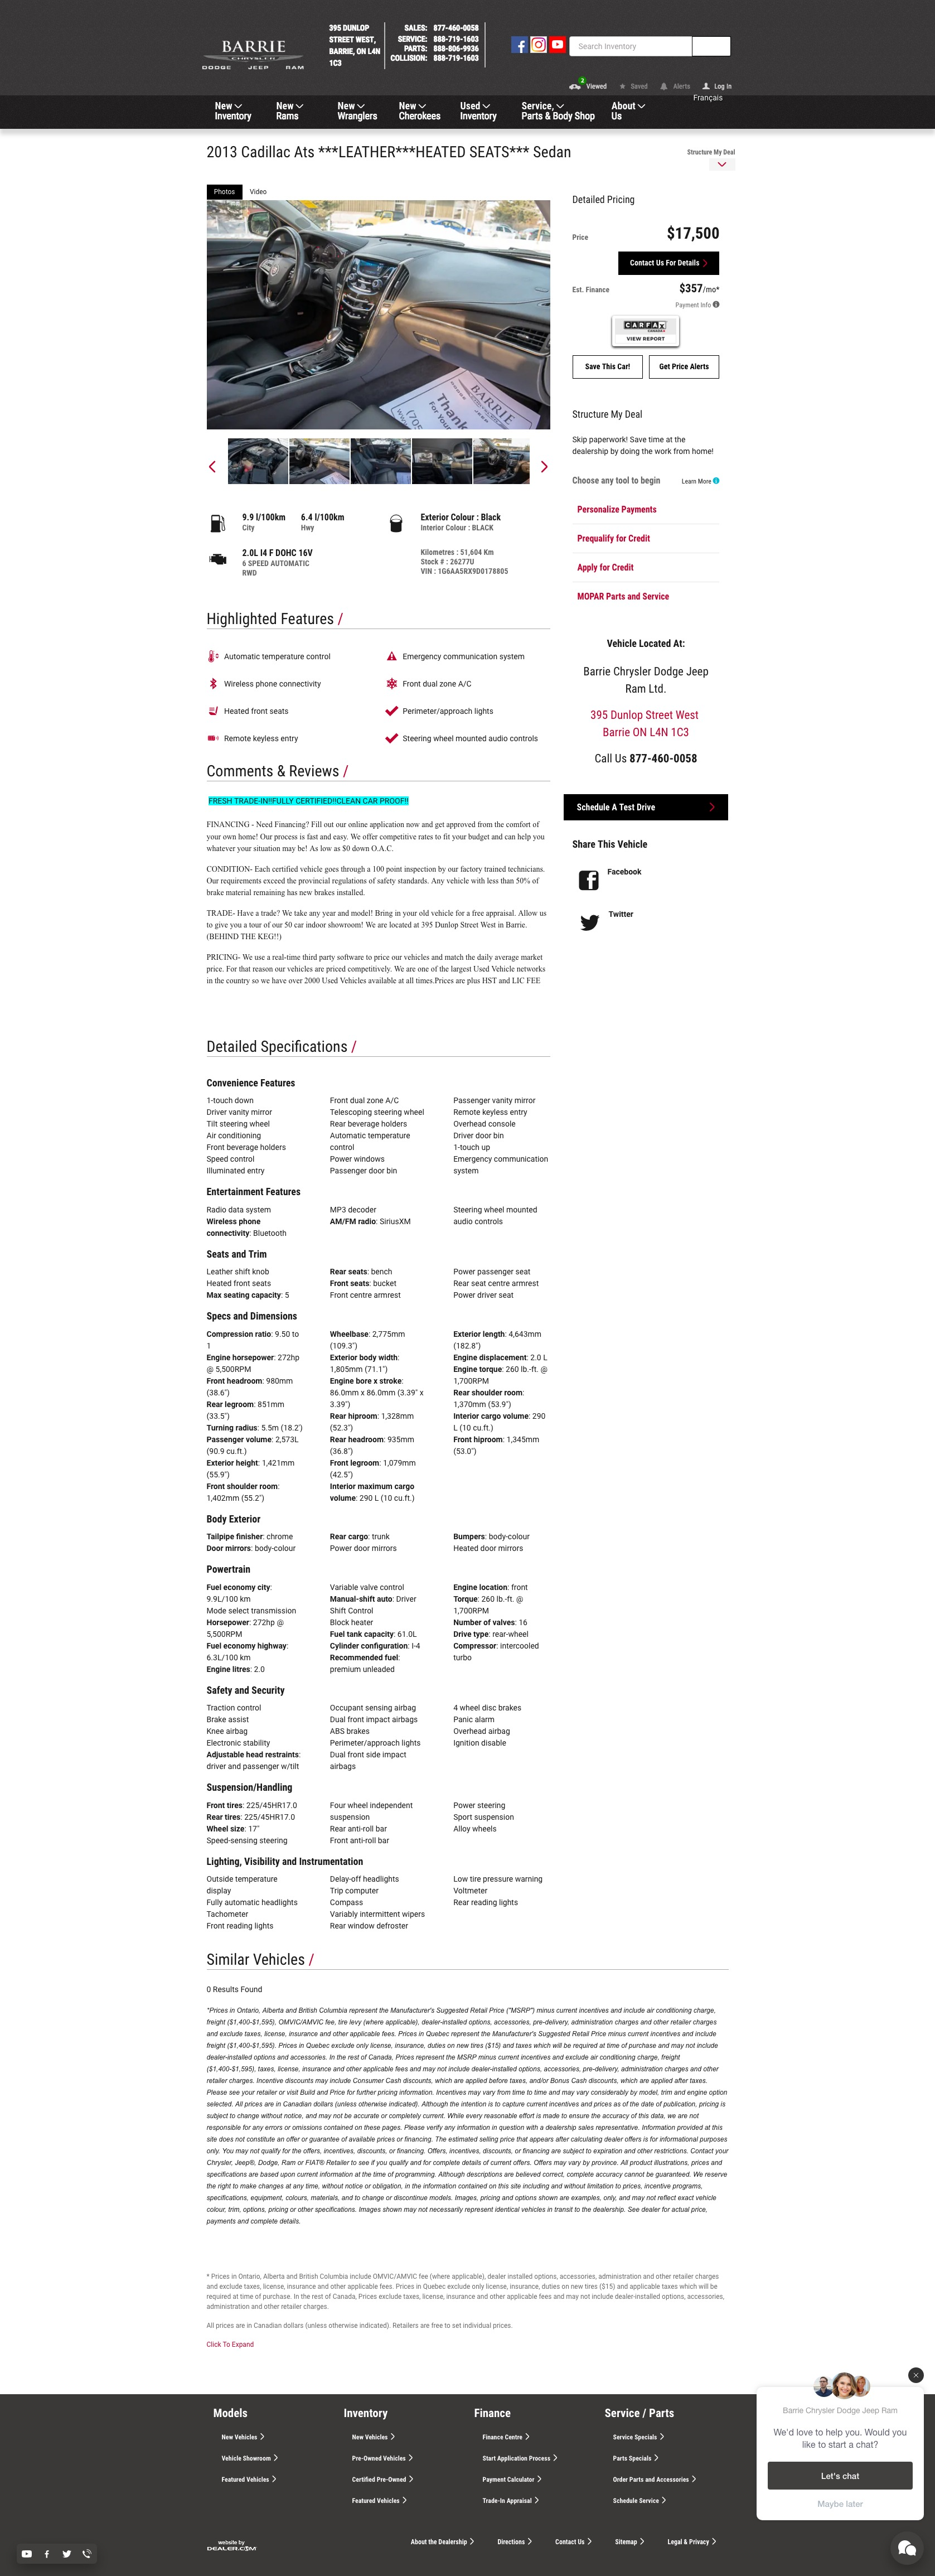car: (541, 462, 549, 475)
